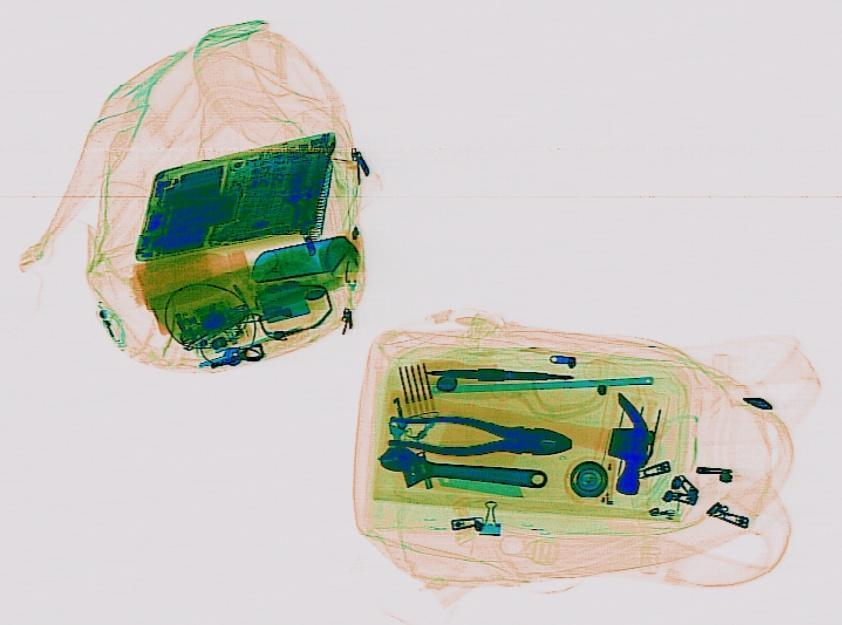Pliers: (383, 409, 575, 464)
Wrench: (373, 441, 551, 500)
